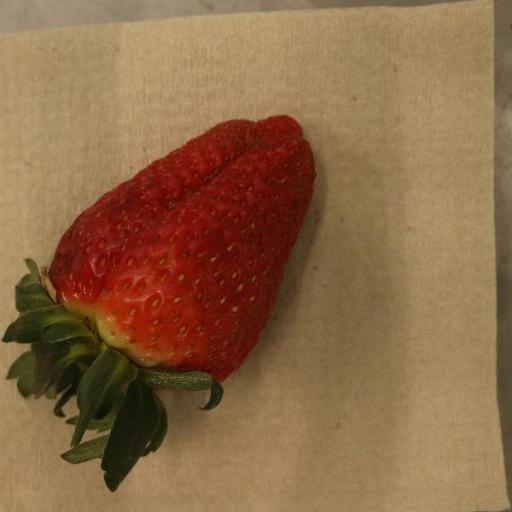Strawberry: (3, 115, 319, 493)
